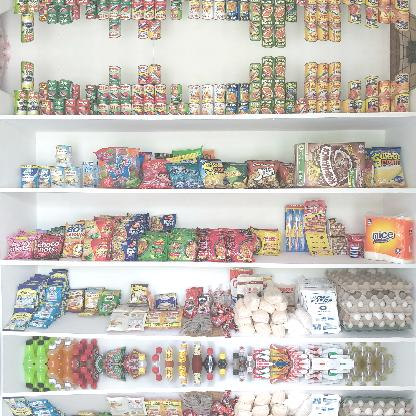Koko-Krunch: (293, 142, 365, 188)
